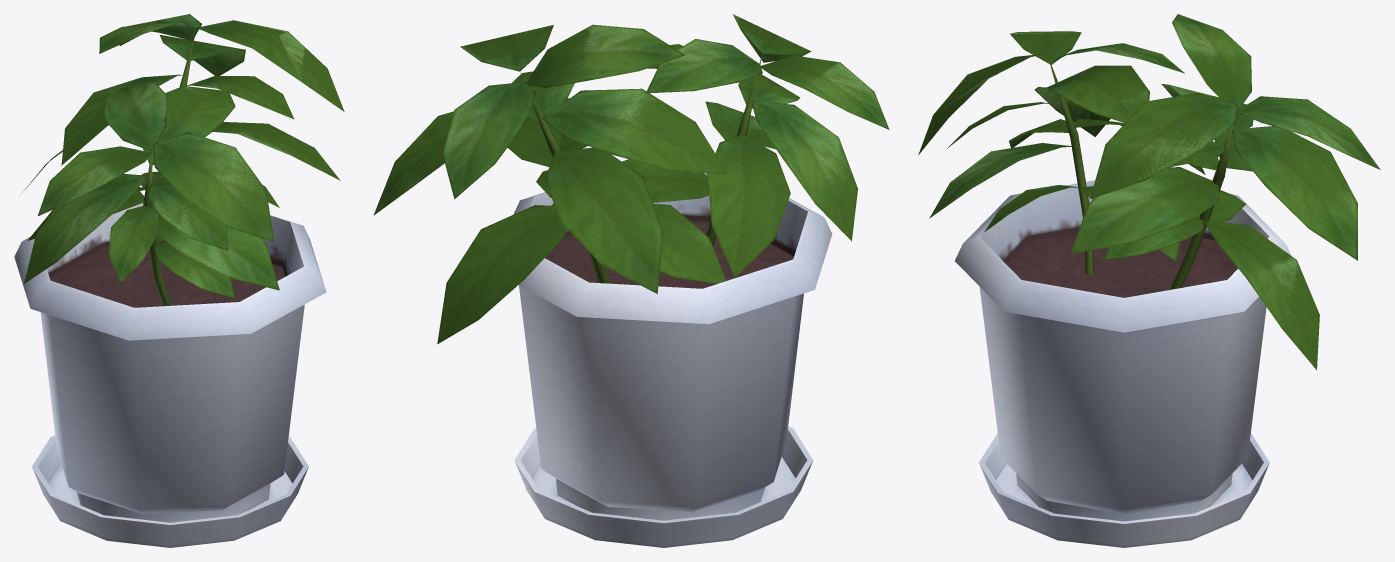
The model's file is set_pot_05.fbx.
3 renders of one model, left to right at view 1: azimuth 30°, elevation 25°; view 2: azimuth 150°, elevation 25°; view 3: azimuth 270°, elevation 25°, orthographic. The views are drawn at different scales.
Parts seen in each view (by area): view 1: flowerpot_05, saucer_05; view 2: flowerpot_05, saucer_05; view 3: flowerpot_05, saucer_05.
Part boxes in pixels (<box>): flowerpot_05: <box>14,14,344,522</box>; saucer_05: <box>32,435,308,547</box>; flowerpot_05: <box>373,14,889,520</box>; saucer_05: <box>514,426,813,547</box>; flowerpot_05: <box>918,14,1380,521</box>; saucer_05: <box>979,433,1269,547</box>.
Size of the model in its own units: 28.91 by 36.32 by 32.64.
